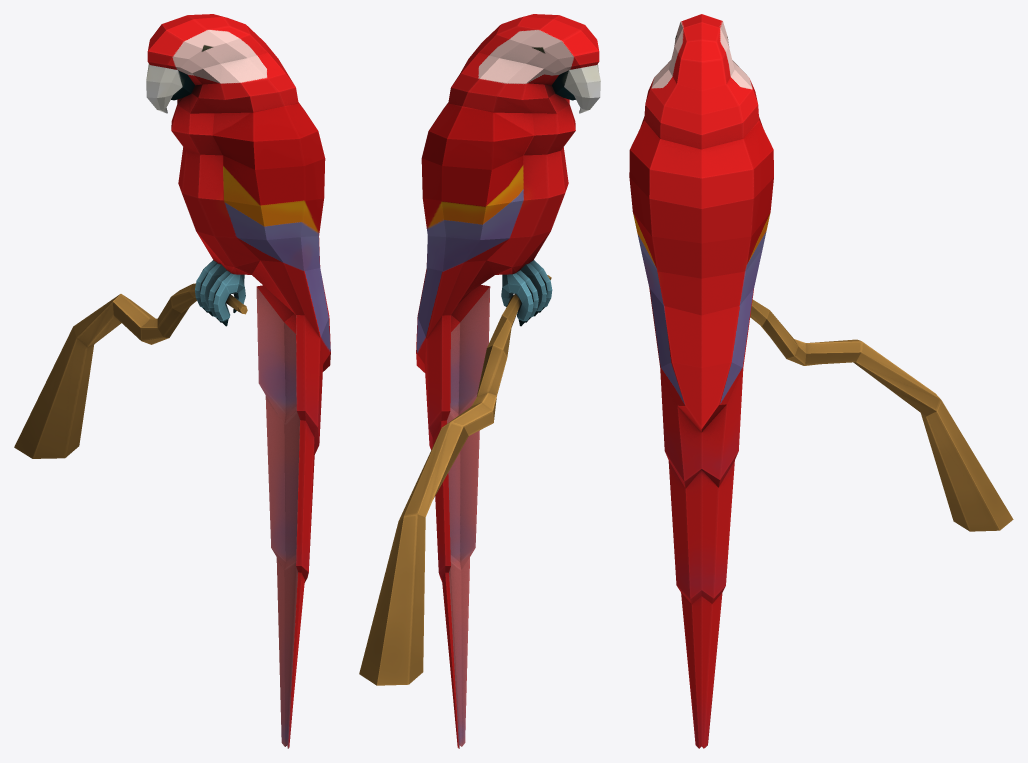
The model's file is Scarlet macaw.glb.
3 renders of one model, left to right at view 1: azimuth 30°, elevation 25°; view 2: azimuth 150°, elevation 25°; view 3: azimuth 270°, elevation 25°, orthographic. The views are drawn at different scales.
Visible parts, largest first — view 1: ScarletMacaw_mesh; view 2: ScarletMacaw_mesh; view 3: ScarletMacaw_mesh.
Part boxes in pixels (<box>): ScarletMacaw_mesh: <box>14,14,330,748</box>; ScarletMacaw_mesh: <box>359,14,600,748</box>; ScarletMacaw_mesh: <box>629,14,1013,748</box>.
Bounding box in the file's own units: 3.73 × 14.57 × 7.4.
Materials: 1 (1 with a texture image).
